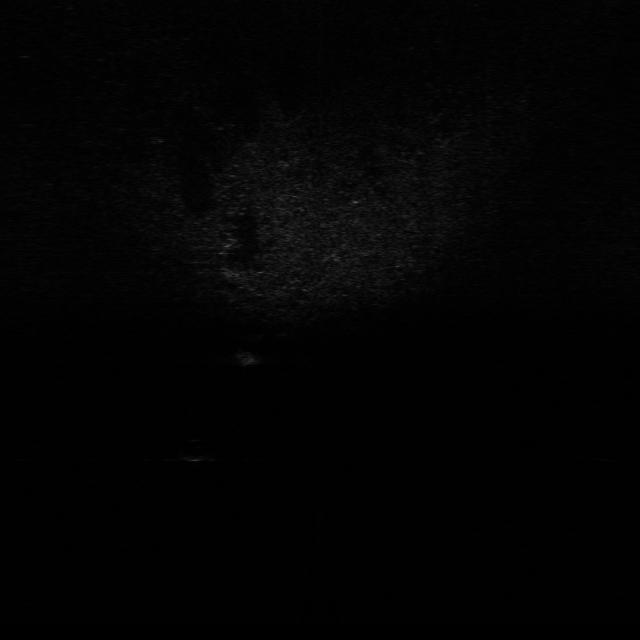ball: (176, 435, 212, 465)
cube: (233, 342, 262, 368)
